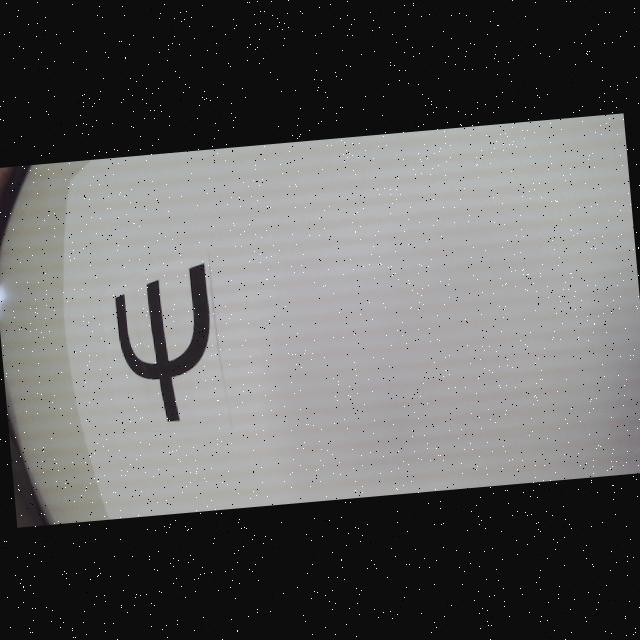PSI: (112, 262, 219, 428)
